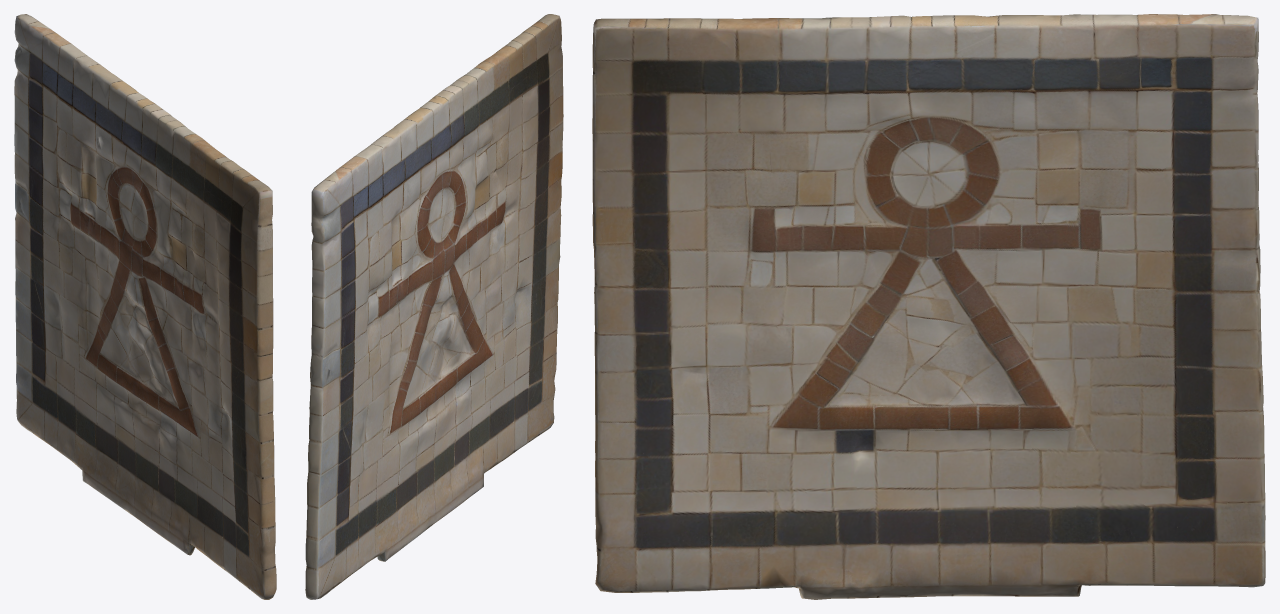
Rendered from Mosaic_Symbol_0516162246_texture.glb.
3 renders of one model, left to right at view 1: azimuth 30°, elevation 25°; view 2: azimuth 150°, elevation 25°; view 3: azimuth 270°, elevation 25°, orthographic. The views are drawn at different scales.
Size of the model in its own units: 0.1194 by 1.9 by 2.
Materials: 1 (1 with a texture image).
